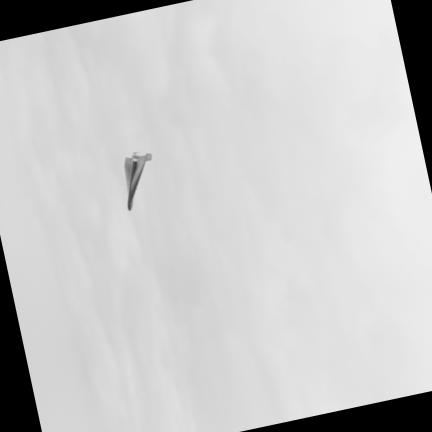Shahed: (124, 153, 151, 210)
